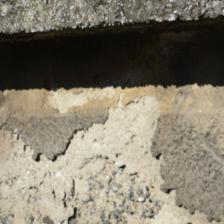Crack: (1, 0, 112, 82), (50, 0, 93, 103), (58, 96, 166, 126)
